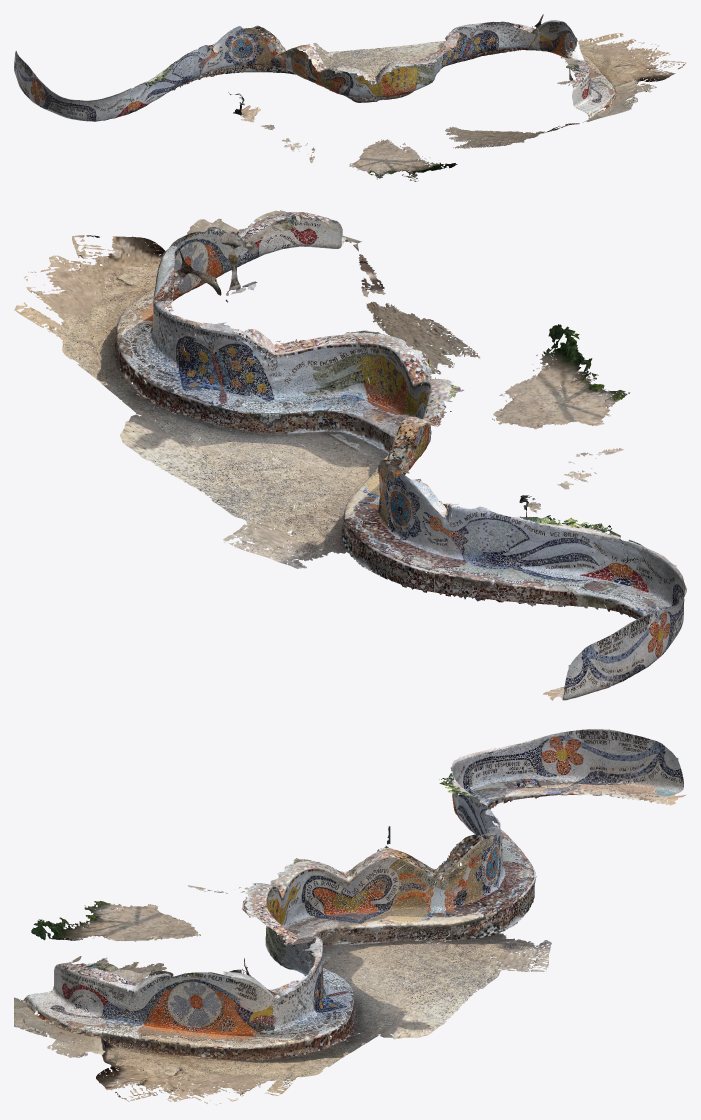
The model's file is amor3.glb.
3 renders of one model, top to bottom at view 1: azimuth 30°, elevation 25°; view 2: azimuth 150°, elevation 25°; view 3: azimuth 270°, elevation 25°, orthographic. The views are drawn at different scales.
Size of the model in its own units: 14.85 by 2.19 by 11.53.
Materials: 5 (5 with a texture image).
